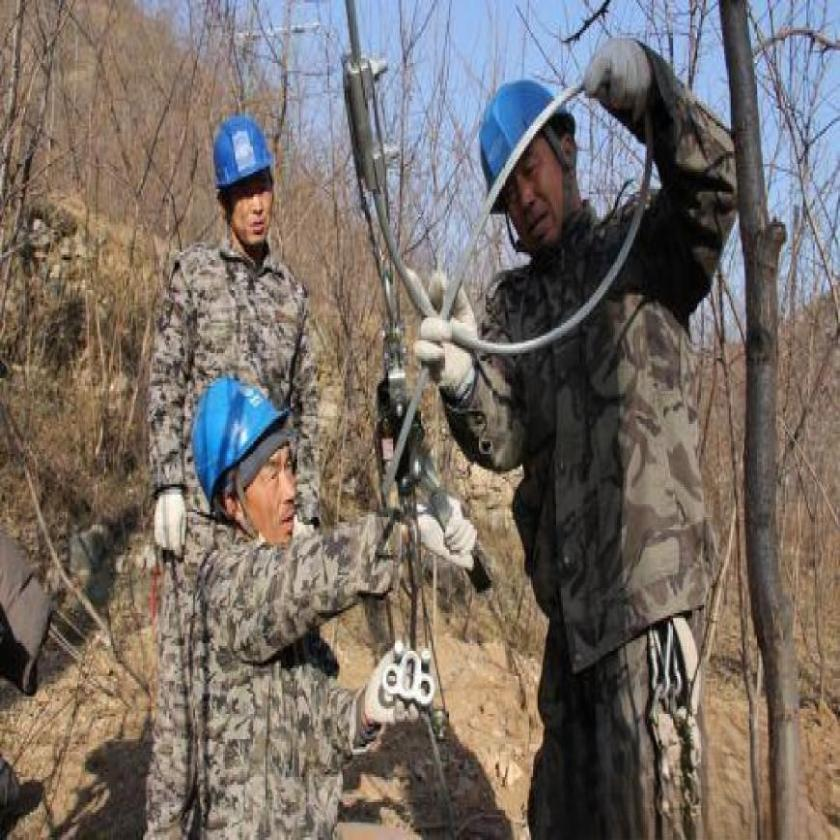Con_casco: (175, 348, 329, 544), (464, 50, 594, 248), (200, 100, 291, 271)
